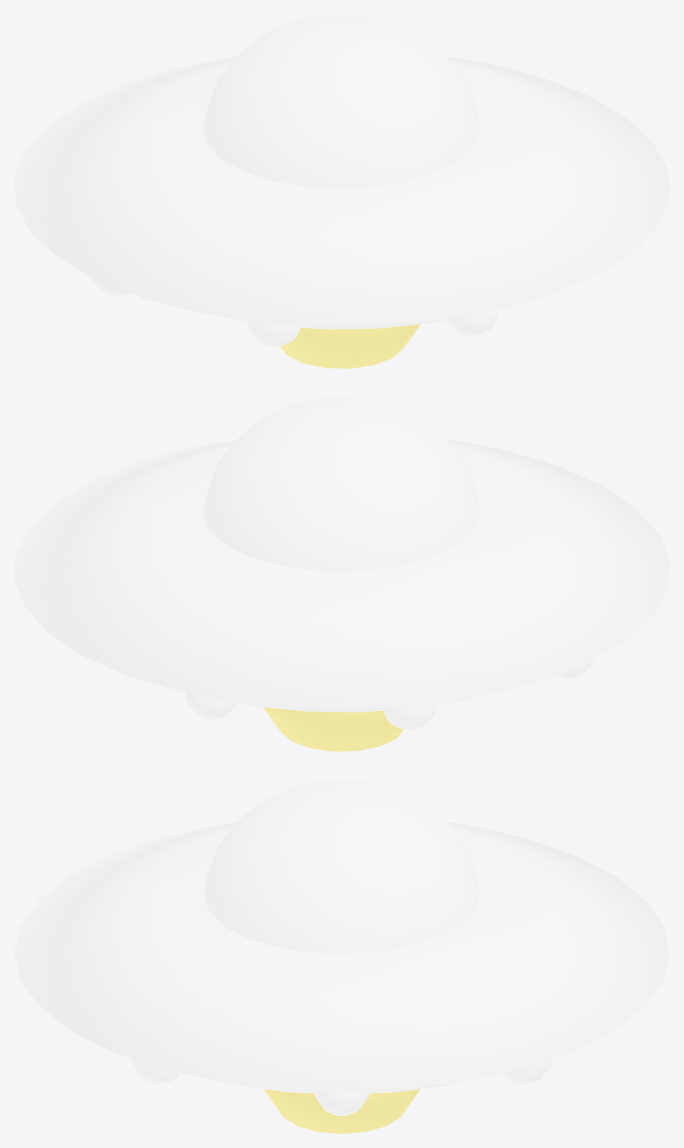
File: sat_ufo.glb
The picture shows the model from 3 angles, top to bottom: view 1: azimuth 30°, elevation 25°; view 2: azimuth 150°, elevation 25°; view 3: azimuth 270°, elevation 25°; orthographic projection.
Parts seen in each view (by area): view 1: saucer, dome.001, beam_NoOutline, light5_NoOutline, light6_NoOutline, rim.001; view 2: saucer, dome.001, beam_NoOutline, light3_NoOutline, light2_NoOutline, rim.001; view 3: saucer, dome.001, beam_NoOutline, light0_NoOutline, light1_NoOutline, light7_NoOutline, rim.001.
Boxes of the visible parts, <box> form: saucer: <box>14,56,669,326</box>; dome.001: <box>203,14,480,188</box>; beam_NoOutline: <box>280,324,420,368</box>; light5_NoOutline: <box>247,320,300,347</box>; light6_NoOutline: <box>446,309,498,336</box>; rim.001: <box>210,314,451,329</box>; saucer: <box>14,439,669,709</box>; dome.001: <box>203,397,480,571</box>; beam_NoOutline: <box>263,707,403,751</box>; light3_NoOutline: <box>383,703,436,730</box>; light2_NoOutline: <box>185,692,237,719</box>; rim.001: <box>232,697,473,712</box>; saucer: <box>14,822,669,1091</box>; dome.001: <box>204,780,479,953</box>; beam_NoOutline: <box>263,1089,420,1133</box>; light0_NoOutline: <box>315,1090,368,1115</box>; light1_NoOutline: <box>504,1058,552,1083</box>; light7_NoOutline: <box>131,1058,179,1083</box>; rim.001: <box>219,1081,464,1093</box>.
Size of the model in its own units: 1.04 by 0.547 by 1.04.
